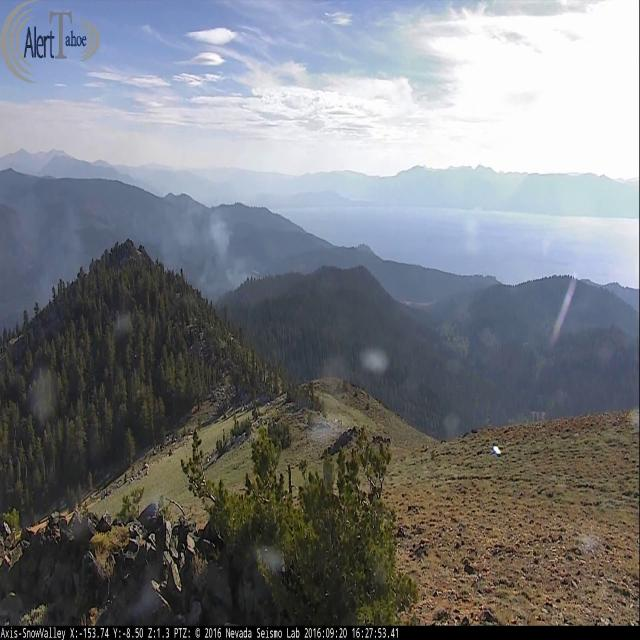smoke: (128, 187, 254, 312), (2, 178, 93, 336)
